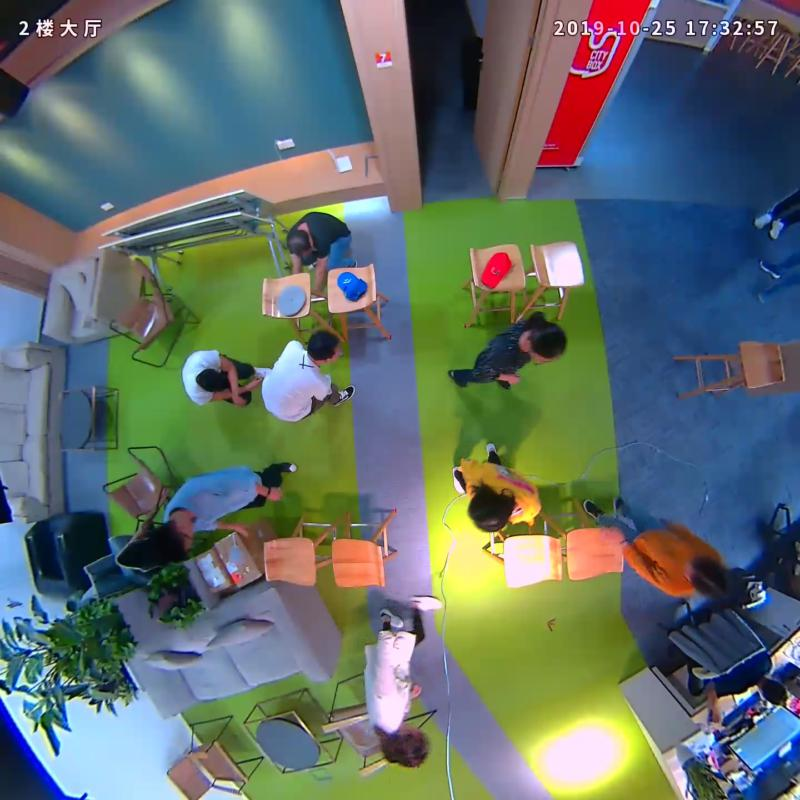head: (511, 314, 575, 367), (681, 551, 742, 605), (374, 724, 434, 777), (460, 488, 517, 541), (143, 513, 202, 562), (302, 323, 348, 373), (282, 223, 317, 257), (195, 363, 230, 396)
